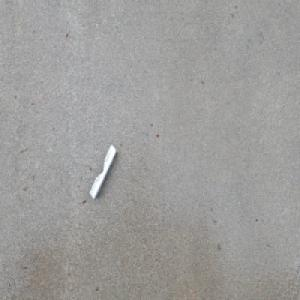ClampPart: (89, 143, 117, 201)
